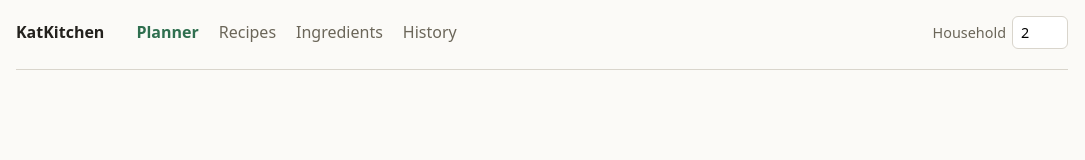
Test case: Layout household size › refuses a fractional value instead of sending a 422
The width and height of the screenshot is (1085, 160).
Replace the text in the number field labelled "Household" with "2.5". click: (1040,32)
box: left=1012, top=16, right=1068, bottom=49
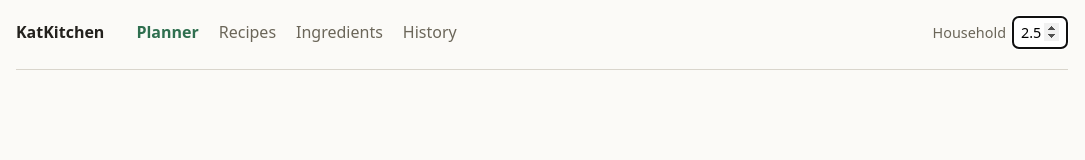
Press Tab
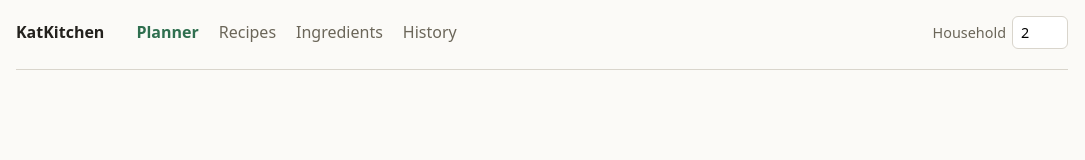
expect the number field labelled "Household" holds "2": met, box left=1012, top=16, right=1068, bottom=49
